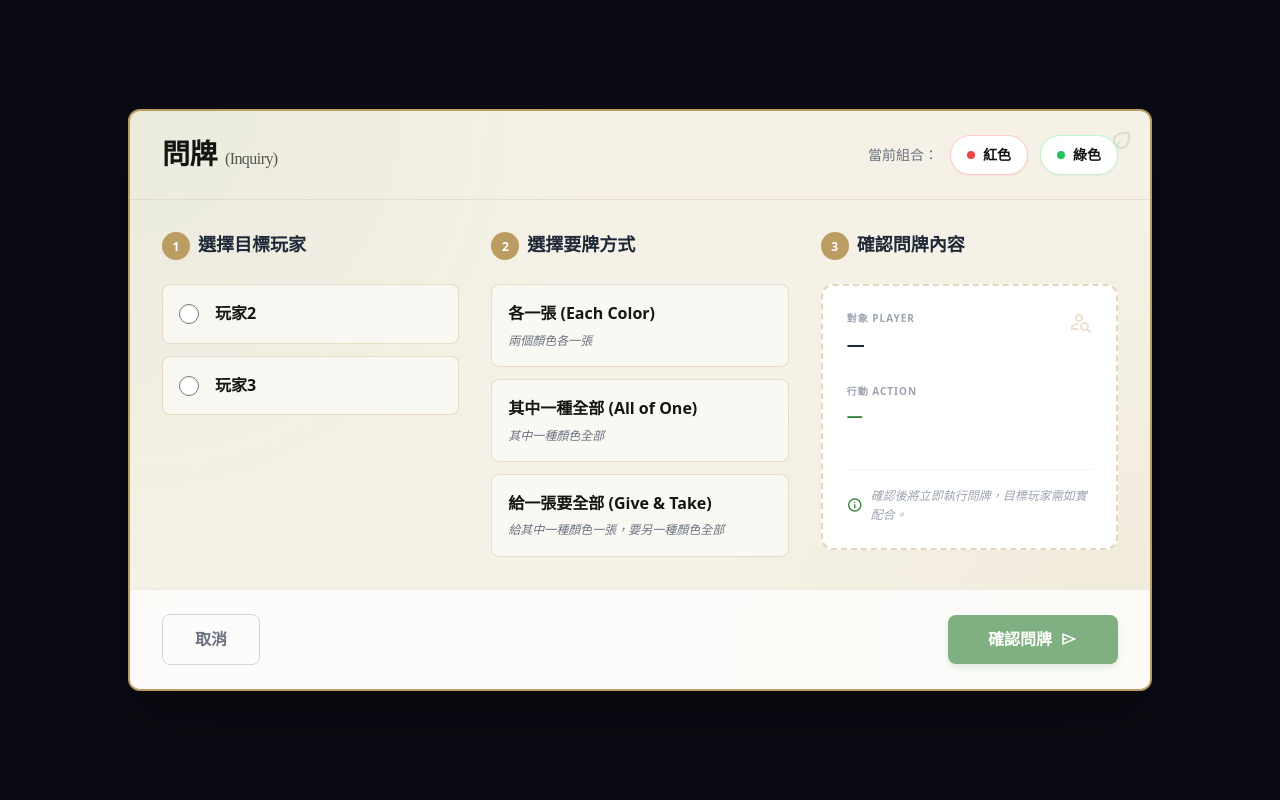
Test: QuestionFlow Component › enables confirm button only when all selections made
The width and height of the screenshot is (1280, 800).
Expected: the button "確認問牌" is disabled, top-left (948, 615), bottom-right (1118, 664)
Click the text "玩家2" at (236, 313), box top-left (215, 302), bottom-right (256, 324)
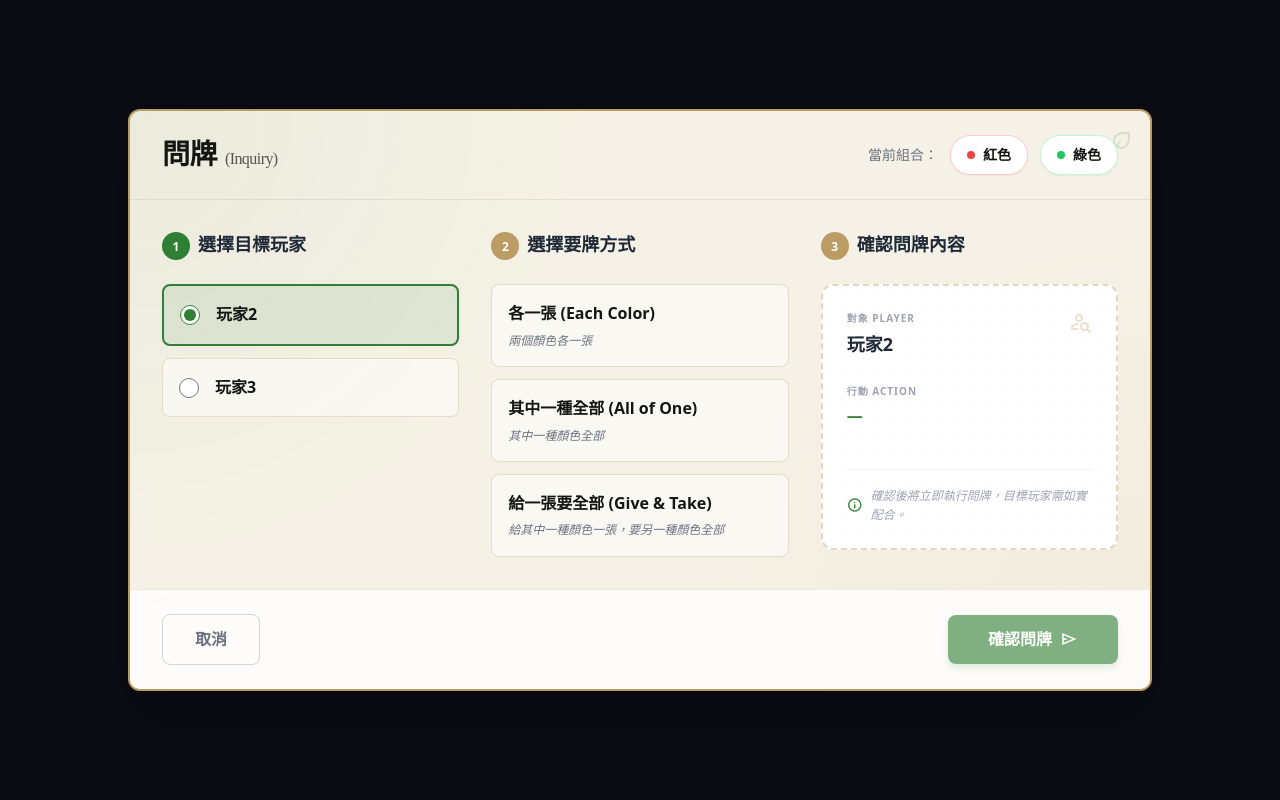
Expected: the button "確認問牌" is disabled, top-left (948, 615), bottom-right (1118, 664)
Click the text "各一張 (Each Color)" at (582, 314), box top-left (508, 301), bottom-right (655, 327)
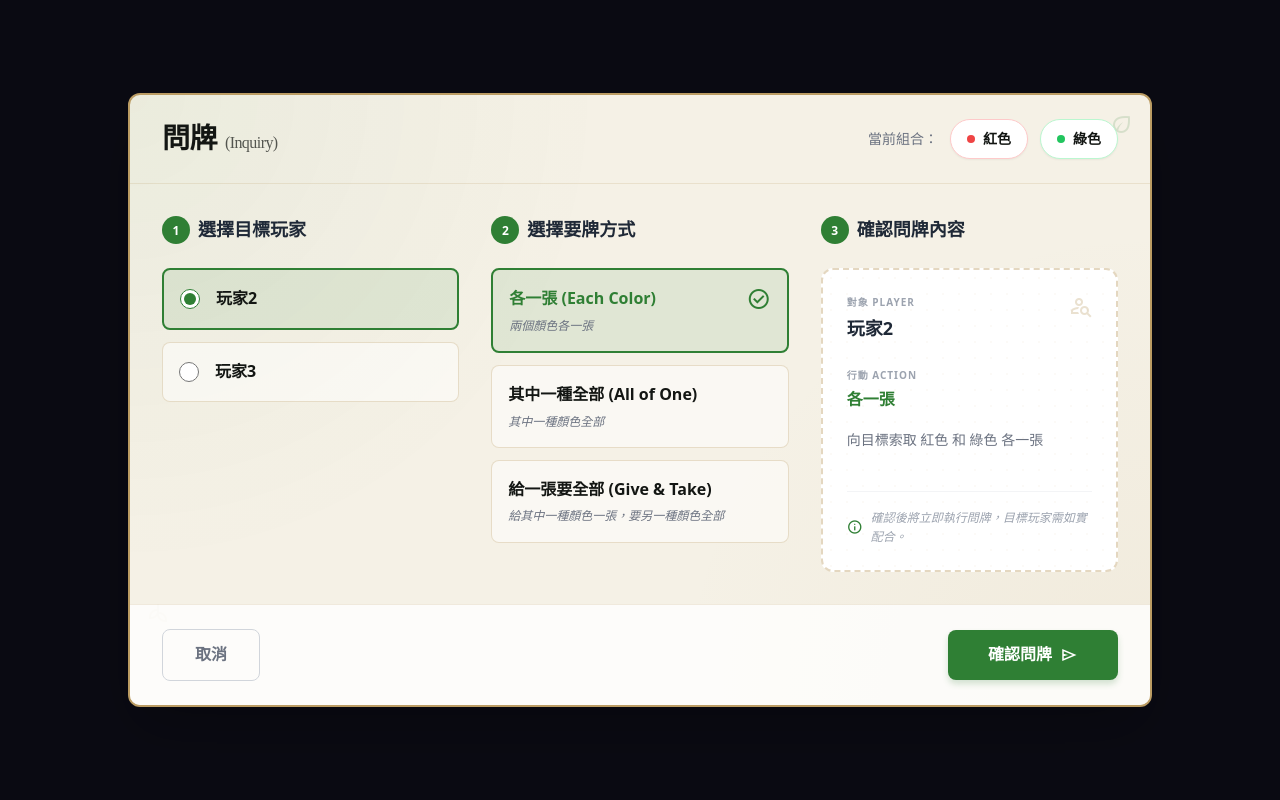
Expected: the button "確認問牌" is enabled, top-left (948, 630), bottom-right (1118, 680)
